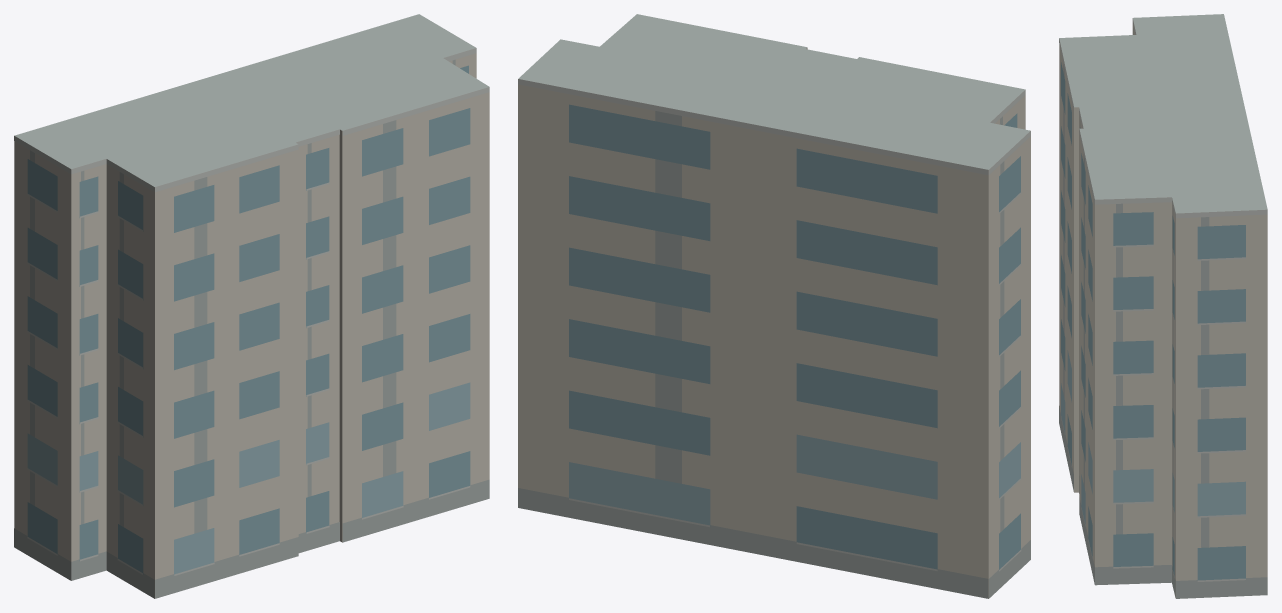
The model's file is survey-upis-32945188.glb.
3 views of the same model, side by side, from view 1: azimuth 30°, elevation 25°; view 2: azimuth 150°, elevation 25°; view 3: azimuth 270°, elevation 25° (orthographic). The views are drawn at different scales.
Parts seen in each view (by area): view 1: survey-upis-32945188.tmp; view 2: survey-upis-32945188.tmp; view 3: survey-upis-32945188.tmp.
Part boxes in pixels (bbox=[...]): survey-upis-32945188.tmp: bbox=[14, 14, 489, 598]; survey-upis-32945188.tmp: bbox=[518, 14, 1030, 598]; survey-upis-32945188.tmp: bbox=[1059, 14, 1267, 598].
Bounding box in the file's own units: 21.32 × 19.2 × 9.42.
